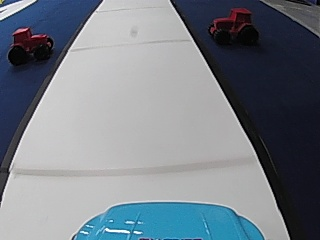tractor: (206, 5, 257, 47), (6, 24, 54, 64)
